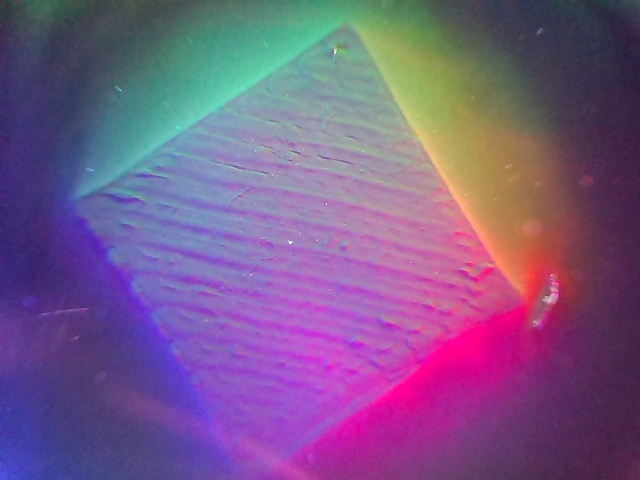contact: (77, 28, 518, 453)
